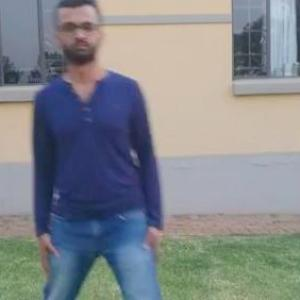follow: (47, 2, 166, 299)
